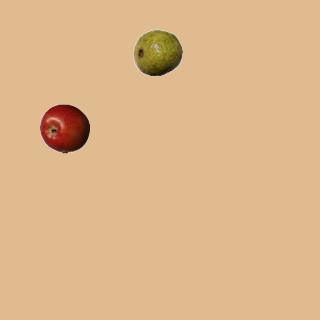Apple Braeburn: (39, 103, 89, 153)
Guava: (132, 27, 182, 77)
